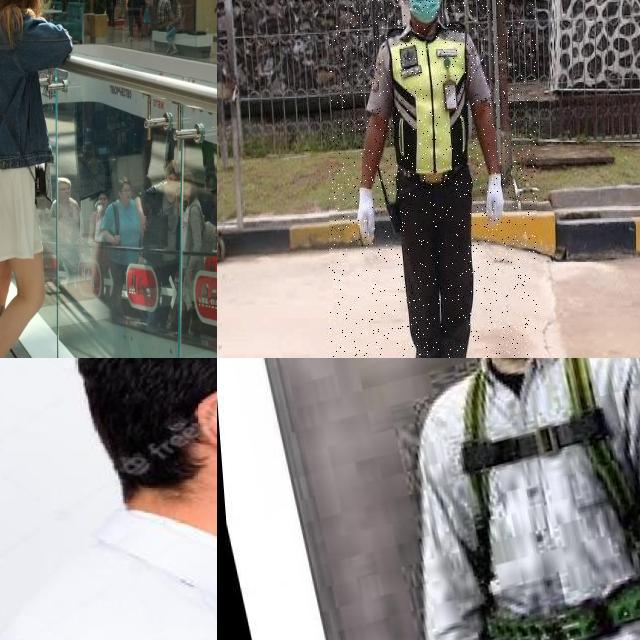Harness: (462, 358, 640, 640)
No_Ear-Protection: (196, 388, 217, 459)
person: (329, 0, 537, 358), (0, 358, 217, 640)
vest: (390, 22, 480, 179)
